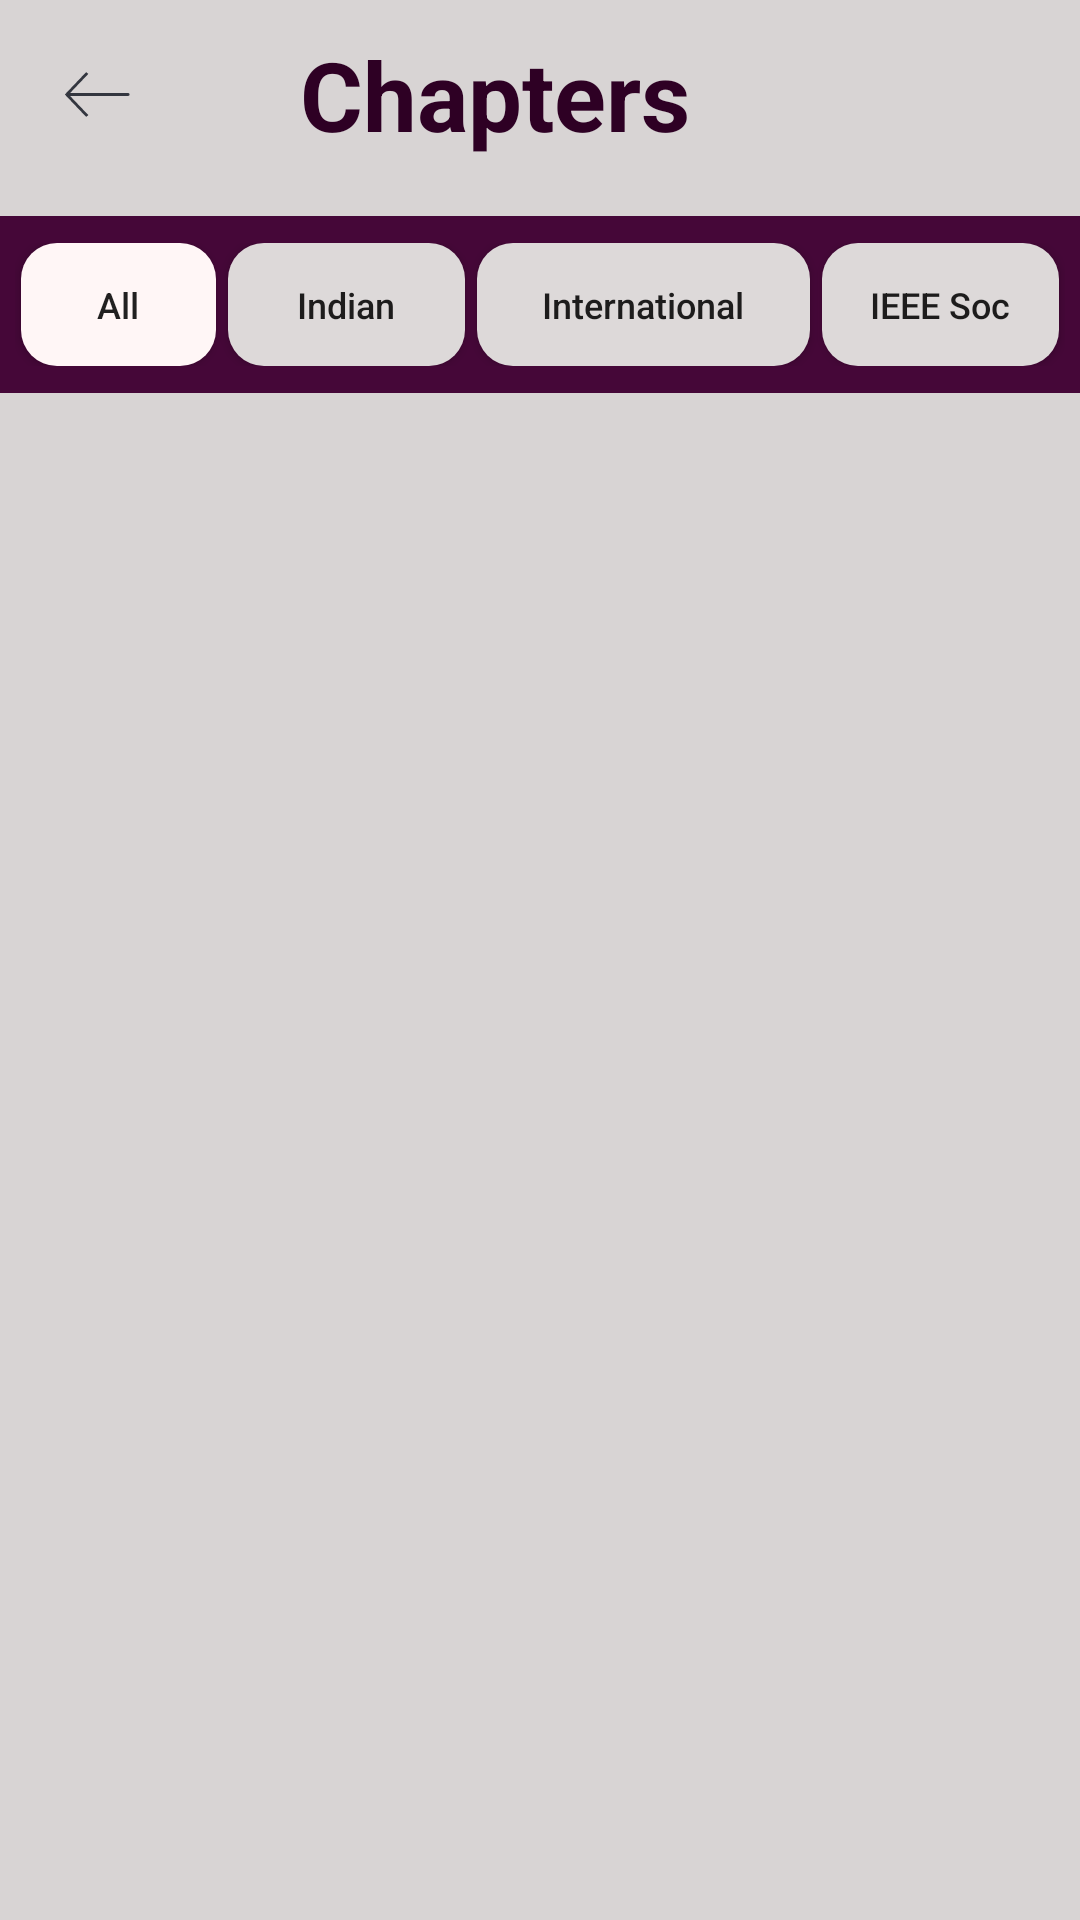

Icons on this 1080x1920 Android screen, each with its box as (x1, y1, x2, y2):
leftarrow: (65, 72, 130, 117)
